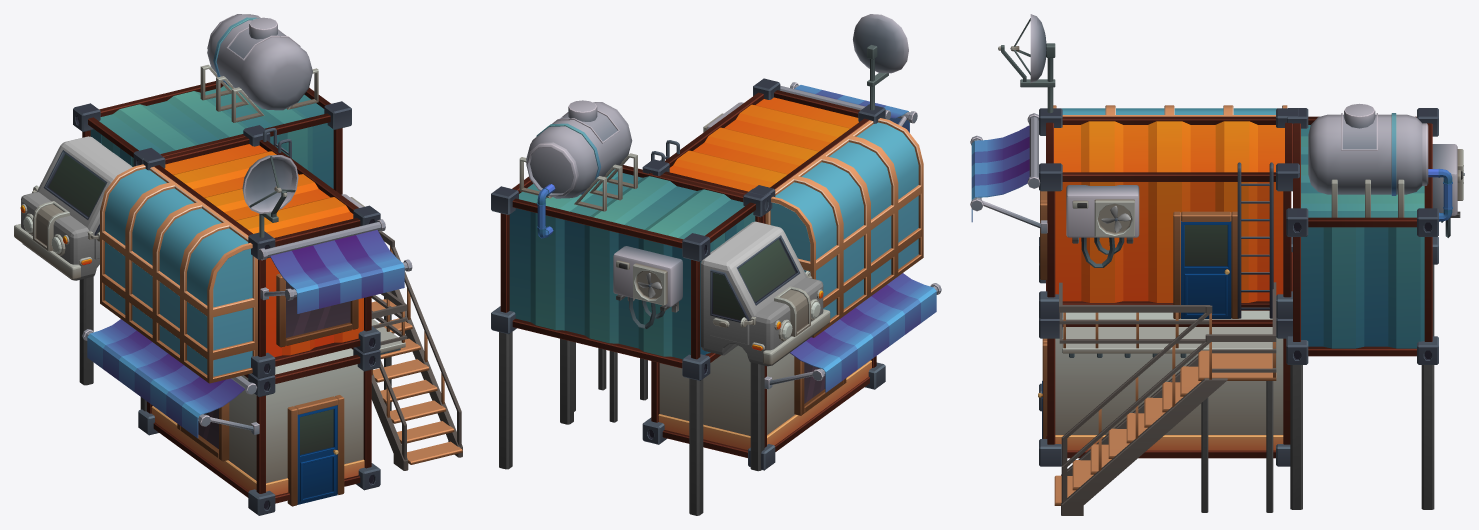
Rendered from sp_prebuild_house_09.fbx.
3 views of the same model, side by side, from view 1: azimuth 30°, elevation 25°; view 2: azimuth 150°, elevation 25°; view 3: azimuth 270°, elevation 25° (orthographic). The views are drawn at different scales.
Parts seen in each view (by area): view 1: finb_house_09; view 2: finb_house_09; view 3: finb_house_09.
Part boxes in pixels (x1,y1,x2,y2): finb_house_09: (14,14,462,515); finb_house_09: (491,14,941,515); finb_house_09: (970,14,1464,515).
Bounding box in the file's own units: 673 × 823 × 945.
